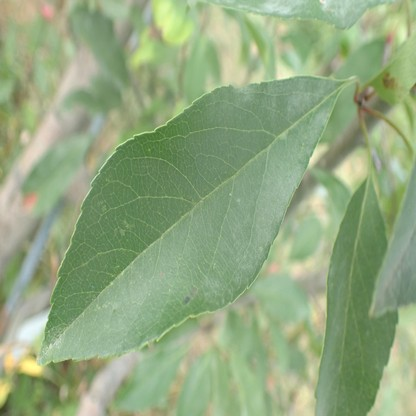powder: (204, 108, 333, 302), (314, 243, 349, 416), (210, 77, 334, 116), (370, 231, 416, 317), (213, 0, 306, 17), (39, 324, 67, 363), (320, 0, 375, 19)
